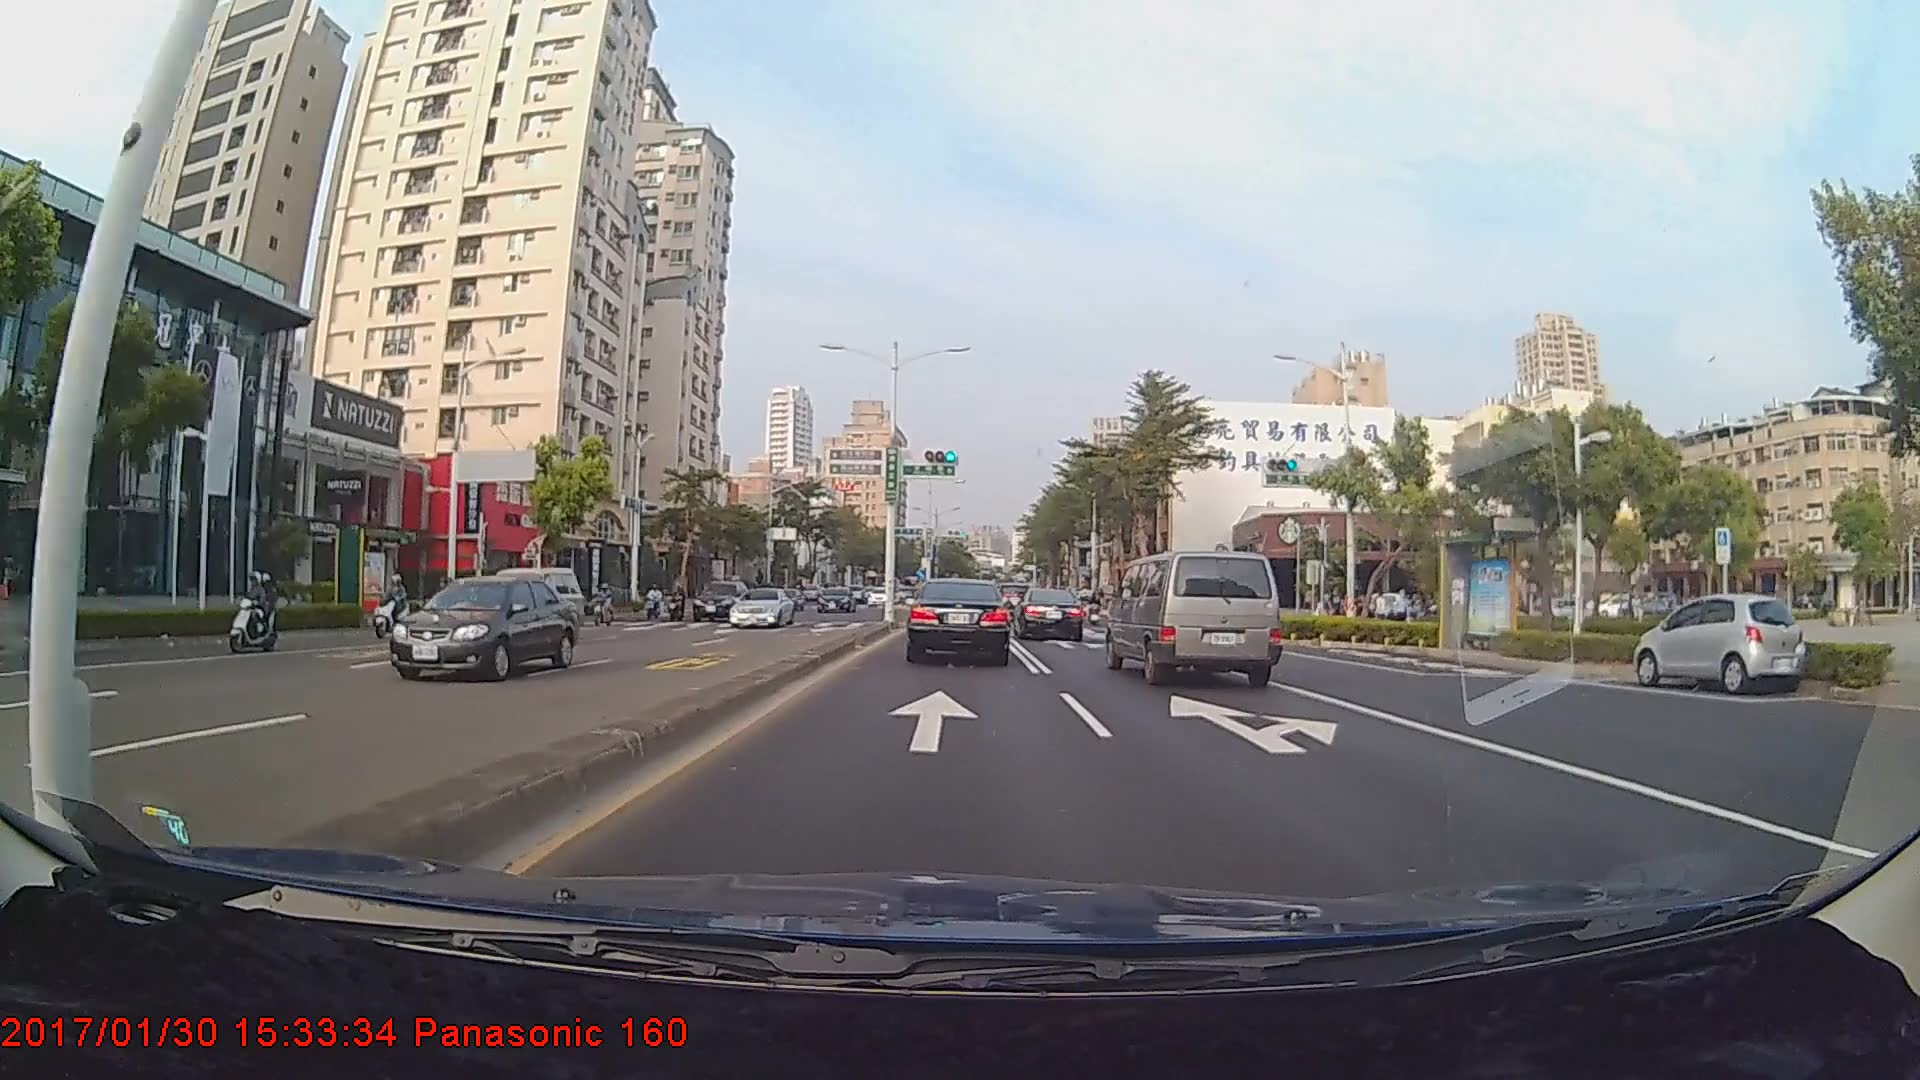rider: (225, 569, 284, 655), (370, 571, 411, 636), (589, 578, 622, 625), (663, 580, 690, 625)
vehicle: (1107, 545, 1283, 690), (384, 573, 580, 682), (1637, 590, 1806, 695), (908, 577, 1010, 664), (457, 565, 583, 634), (1011, 587, 1085, 641), (726, 583, 792, 626), (689, 579, 749, 622), (819, 584, 856, 614)
